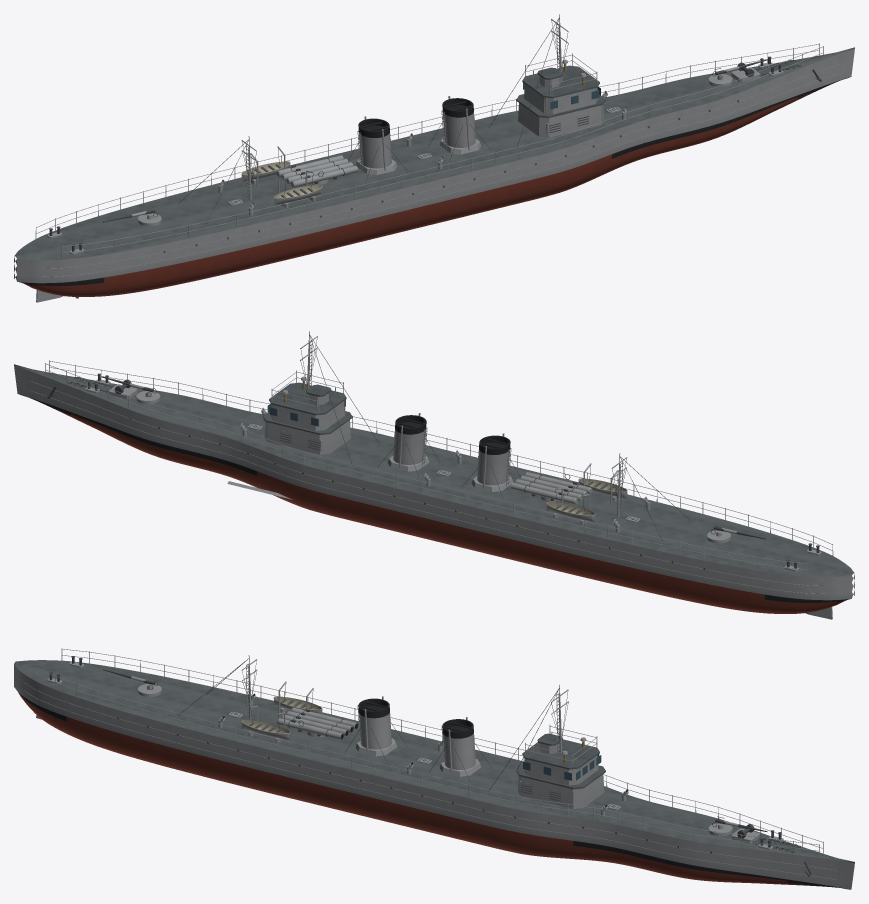
The picture shows the model from 3 angles, top to bottom: view 1: azimuth 30°, elevation 25°; view 2: azimuth 150°, elevation 25°; view 3: azimuth 330°, elevation 25°; orthographic projection.
Visible parts, largest first — view 1: V1 class; view 2: V1 class; view 3: V1 class.
Part boxes in pixels (left/top/right/bottom): V1 class: left=14, top=14, right=854, bottom=302; V1 class: left=14, top=331, right=854, bottom=619; V1 class: left=14, top=648, right=854, bottom=889.
Bounding box in the file's own units: 71.1 × 13.17 × 7.69.
Materials: 9 (8 with a texture image).
